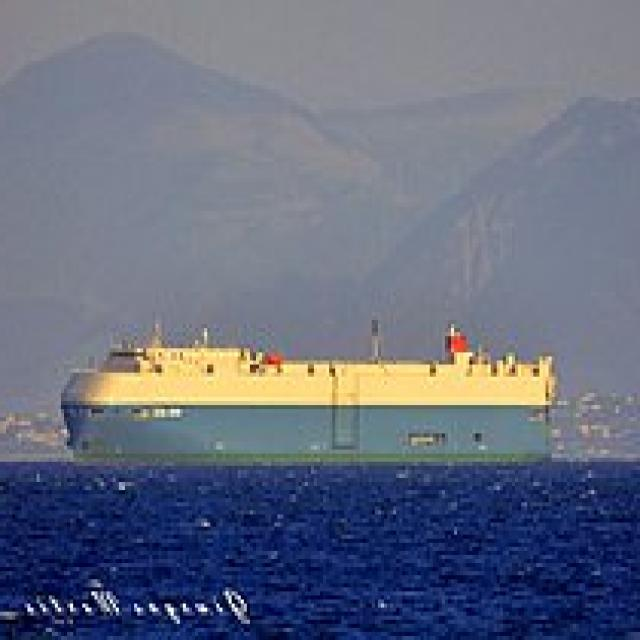Carrier: (61, 320, 561, 466)
